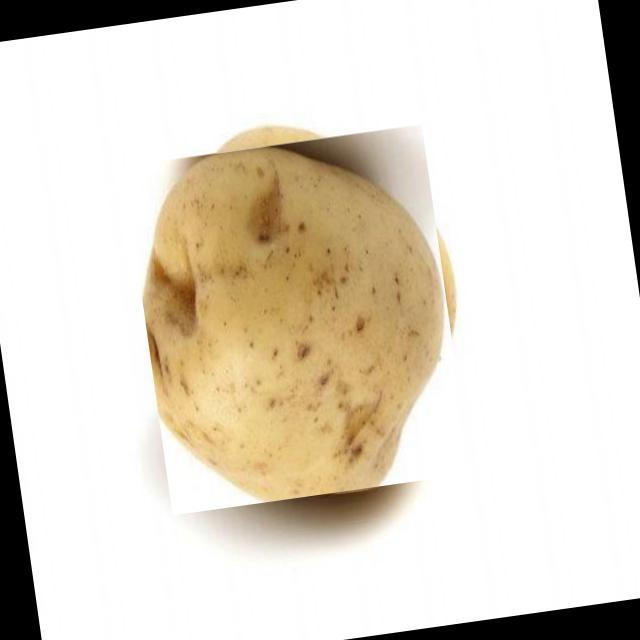potato: (123, 123, 471, 516)
